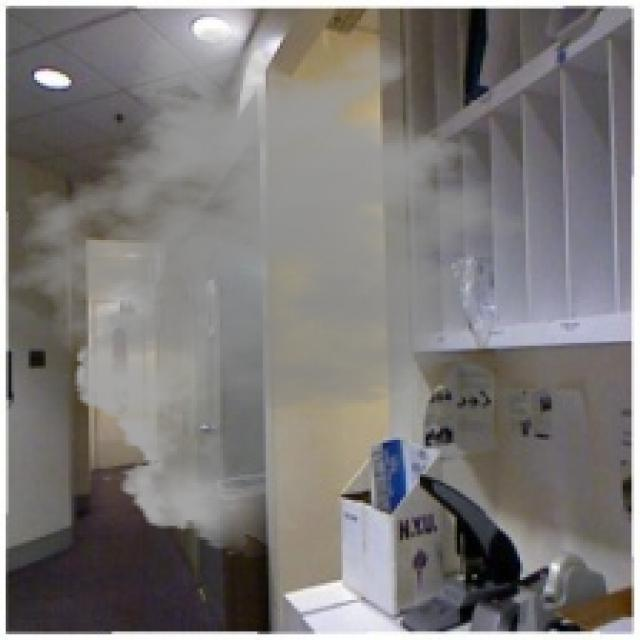Smoke: (3, 25, 563, 558)
